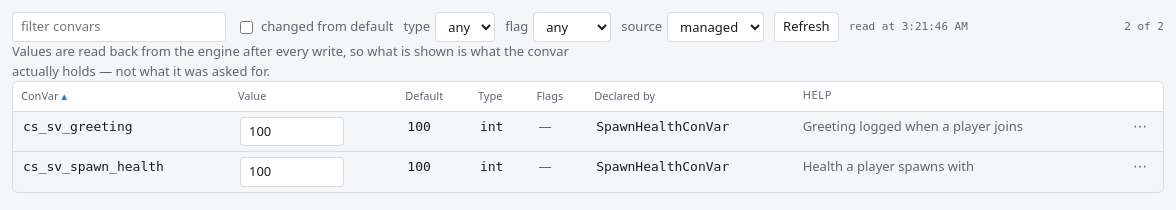
Test case: filtering › matches the name and the help text
Expected: the text "cs_sv_spawn_health" is shown, [13,152,230,192]
In the search field with placeholder "filter convars": (119, 27) [12,12,226,42], type "joins"
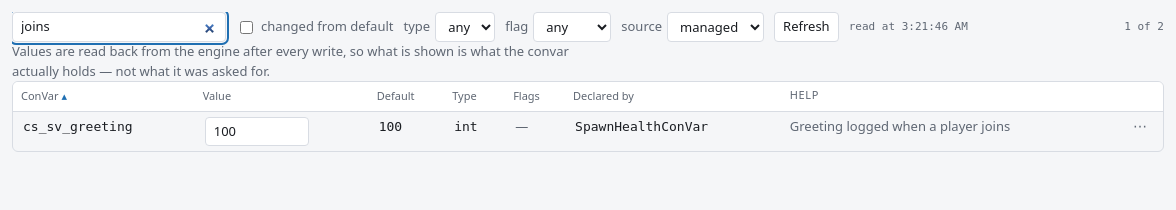
Expected: the text "cs_sv_greeting" is shown, [13,111,195,151]
Now the text "cs_sv_spawn_health" is gone
